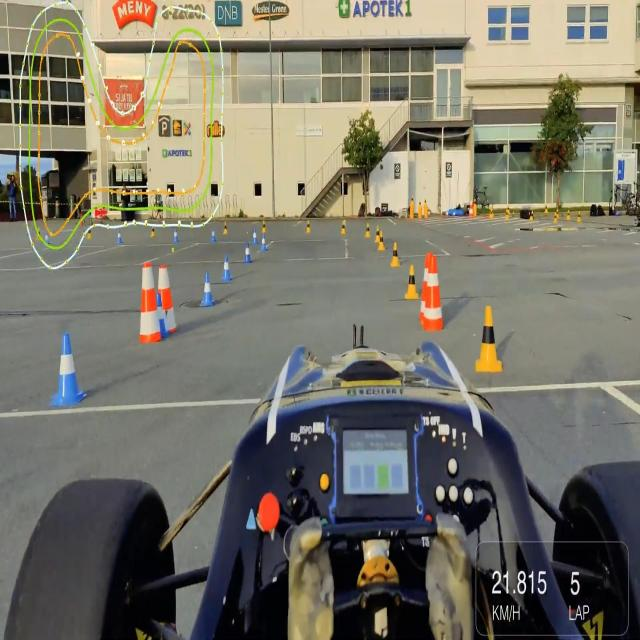blue_cone: (52, 331, 84, 407), (197, 255, 219, 309), (220, 245, 236, 288), (256, 224, 274, 258), (240, 235, 256, 267)
large_orange_cone: (422, 247, 445, 330), (137, 262, 158, 344), (160, 258, 178, 338)
yellow_cone: (466, 300, 505, 373), (404, 260, 422, 295), (388, 235, 402, 267)
